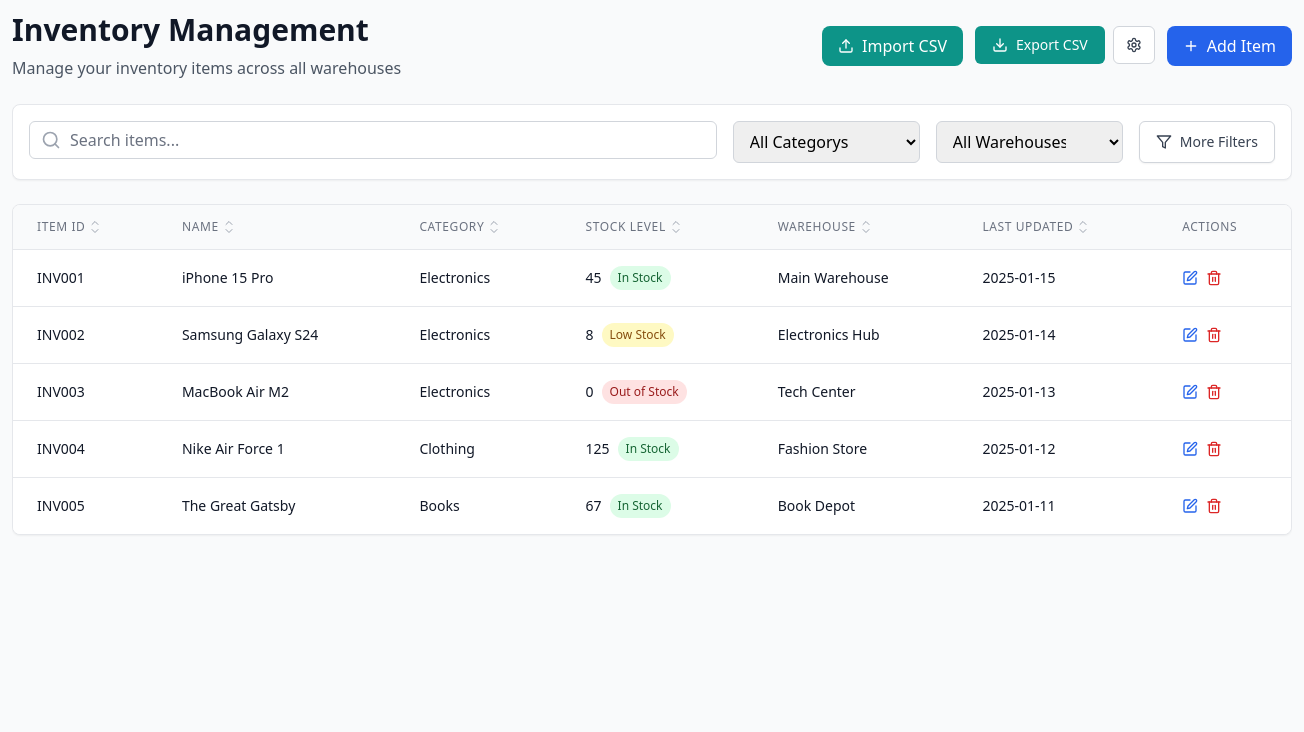
Test: InventoryList Component - Basic Tests › shows empty state when no items match filter
Type "NonExistentItem" into the field with placeholder "Search items..." at (373, 140), box [29,121,717,159]
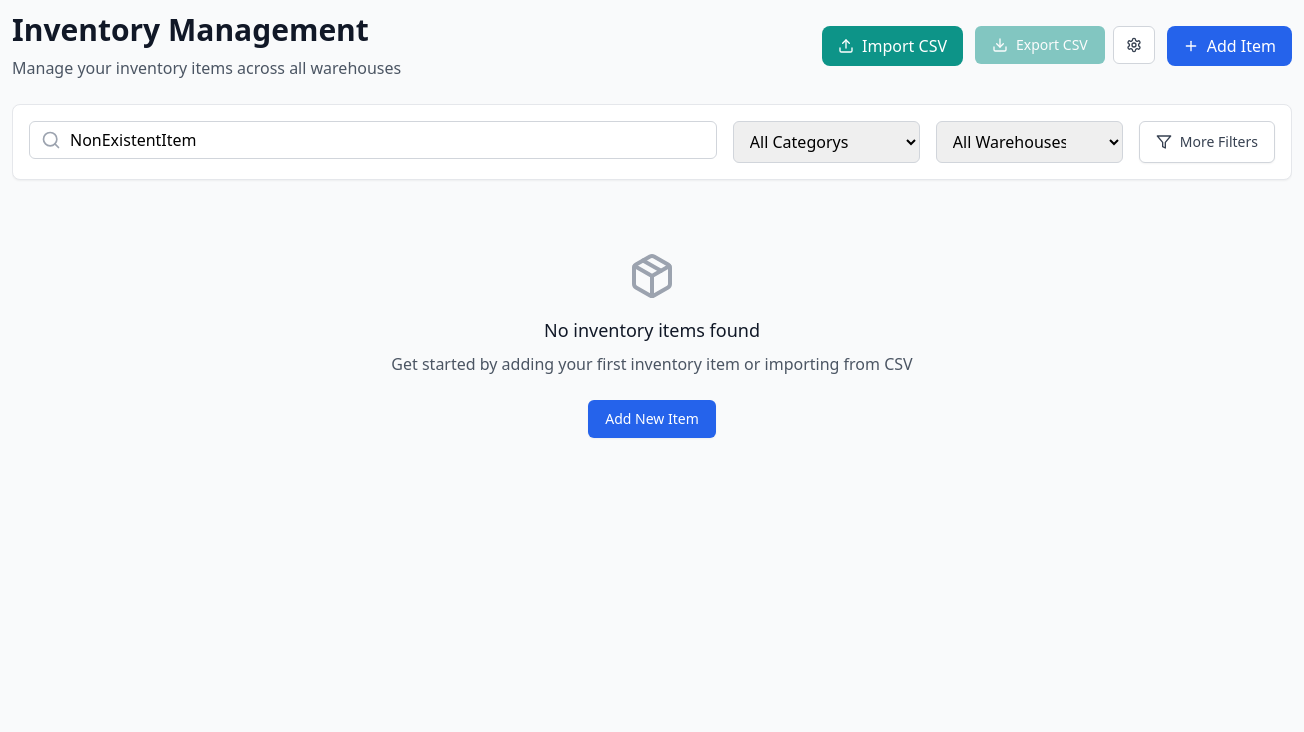
Expected: the heading "No inventory items found" is shown, [544,318,760,342]
